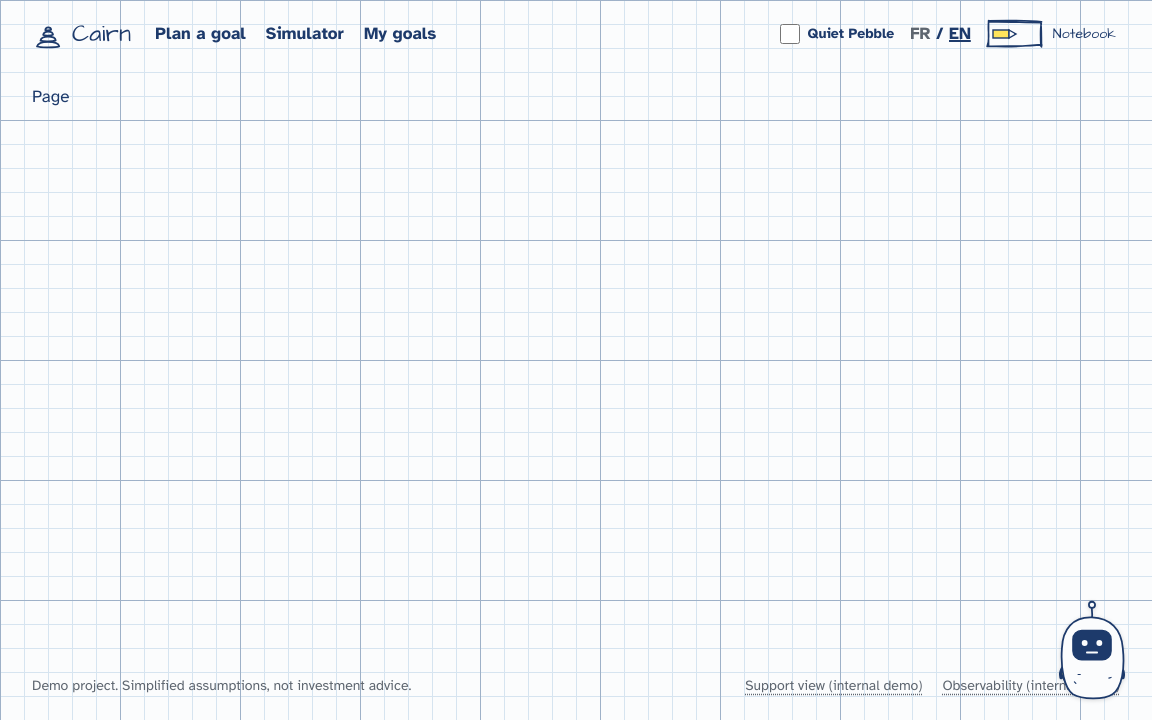
Test: shows navigation, the disclaimer and switches language
Expected: the link "Simulator" is shown, [266,23,344,44]
Expected: the text "Demo project. Simplified assumptions, not investment advice." is shown, [32,676,411,696]
Click the button with aria-label "Passer en français" at (940, 34), box [902,12,979,56]
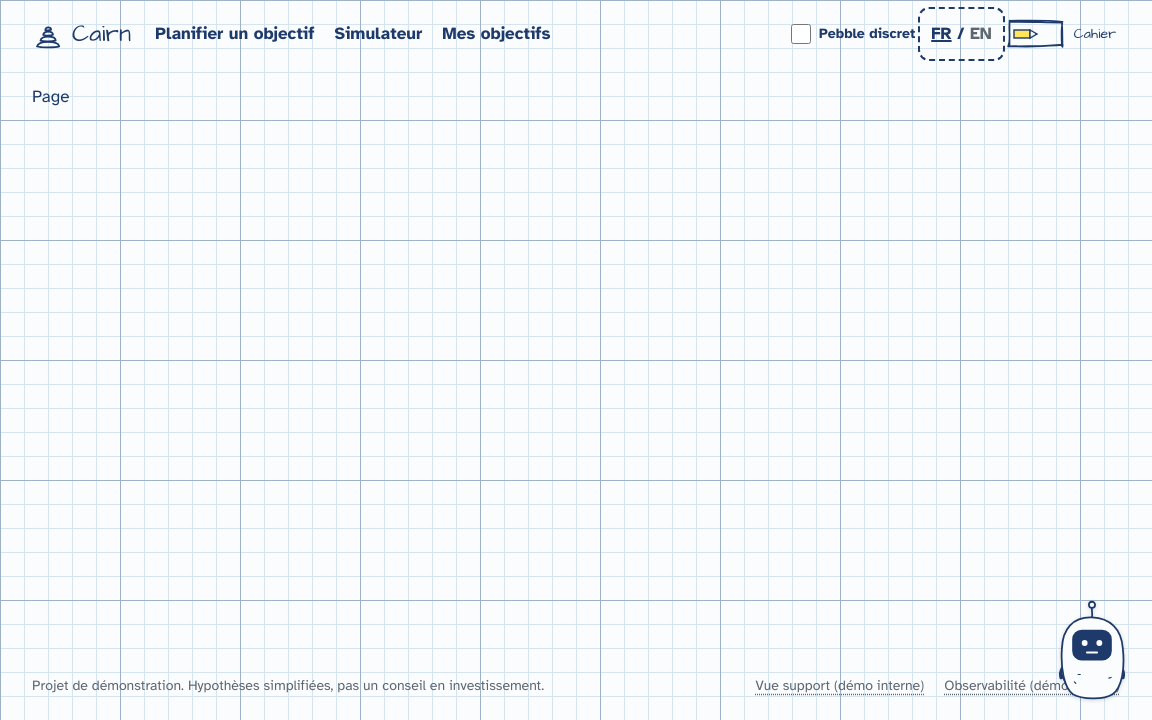
Expected: the link "Simulateur" is shown, [334,23,422,44]
